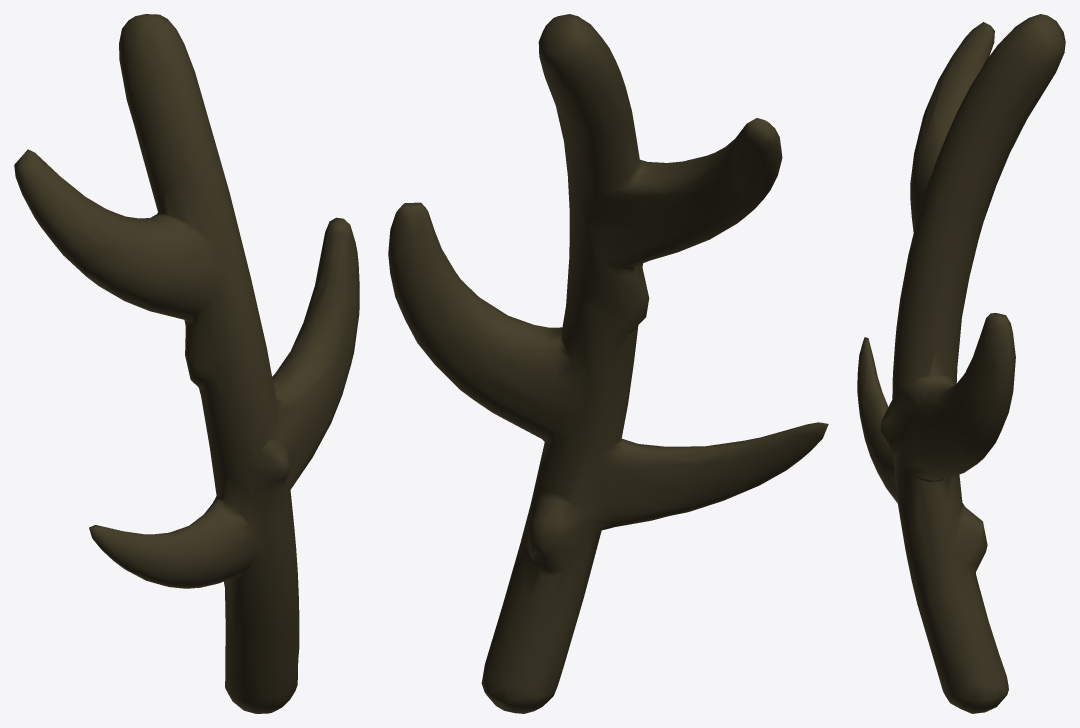
The model's file is ss_stalk6.gltf.
3 renders of one model, left to right at view 1: azimuth 30°, elevation 25°; view 2: azimuth 150°, elevation 25°; view 3: azimuth 270°, elevation 25°, orthographic. The views are drawn at different scales.
Visible parts, largest first — view 1: Layer_1.001; view 2: Layer_1.001; view 3: Layer_1.001.
Boxes of the visible parts, x1=… form: Layer_1.001: x1=14, y1=14, x2=359, y2=713; Layer_1.001: x1=388, y1=14, x2=828, y2=713; Layer_1.001: x1=857, y1=14, x2=1065, y2=713.
Bounding box in the file's own units: 0.7956 × 1.5 × 0.4314.
